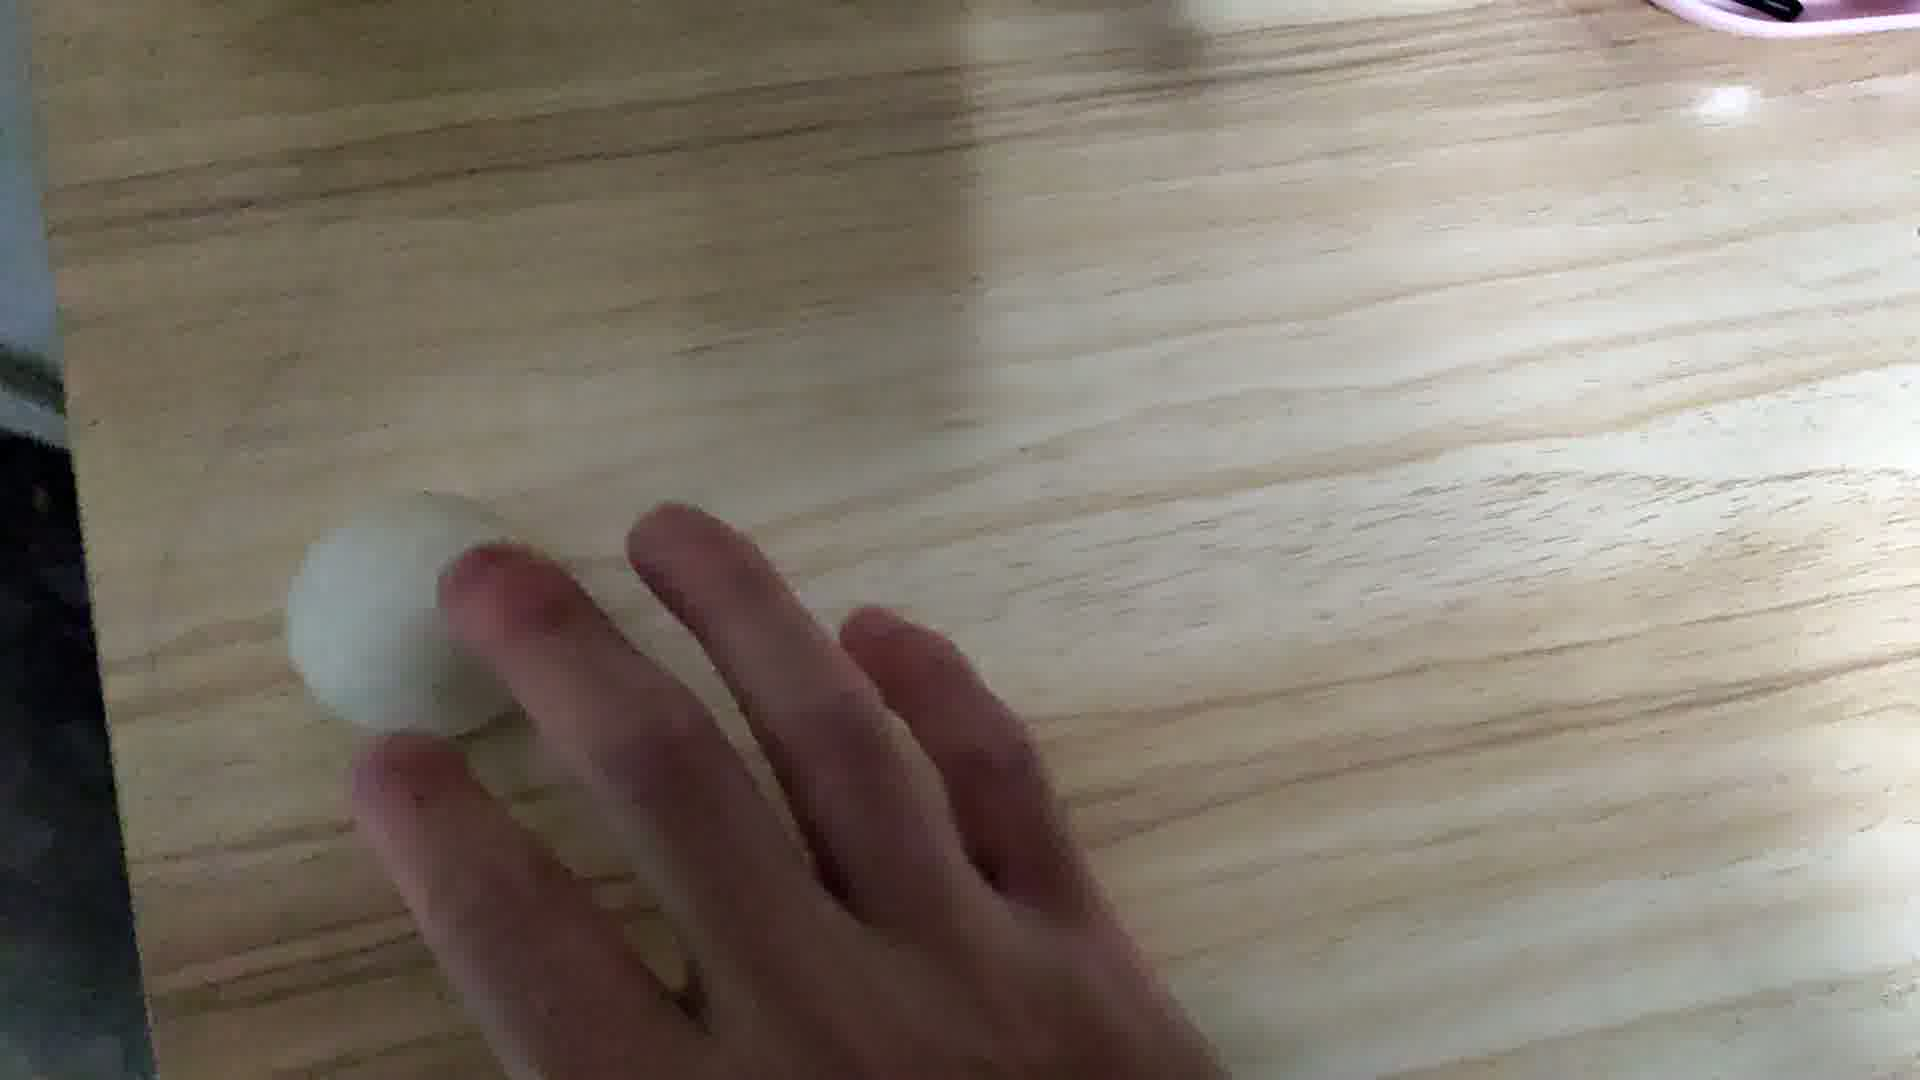Ball: (287, 495, 530, 745)
